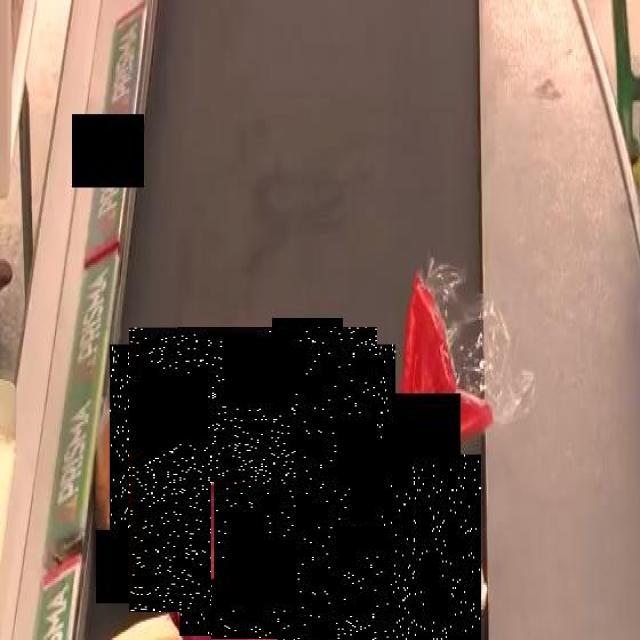food-box: (120, 335, 386, 603), (350, 454, 481, 640), (195, 497, 351, 640), (289, 538, 404, 640)
